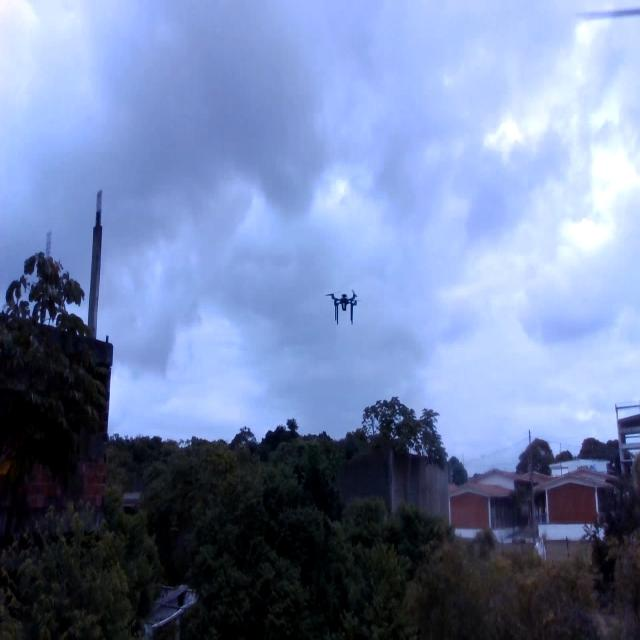-uav-: (320, 280, 368, 335)
